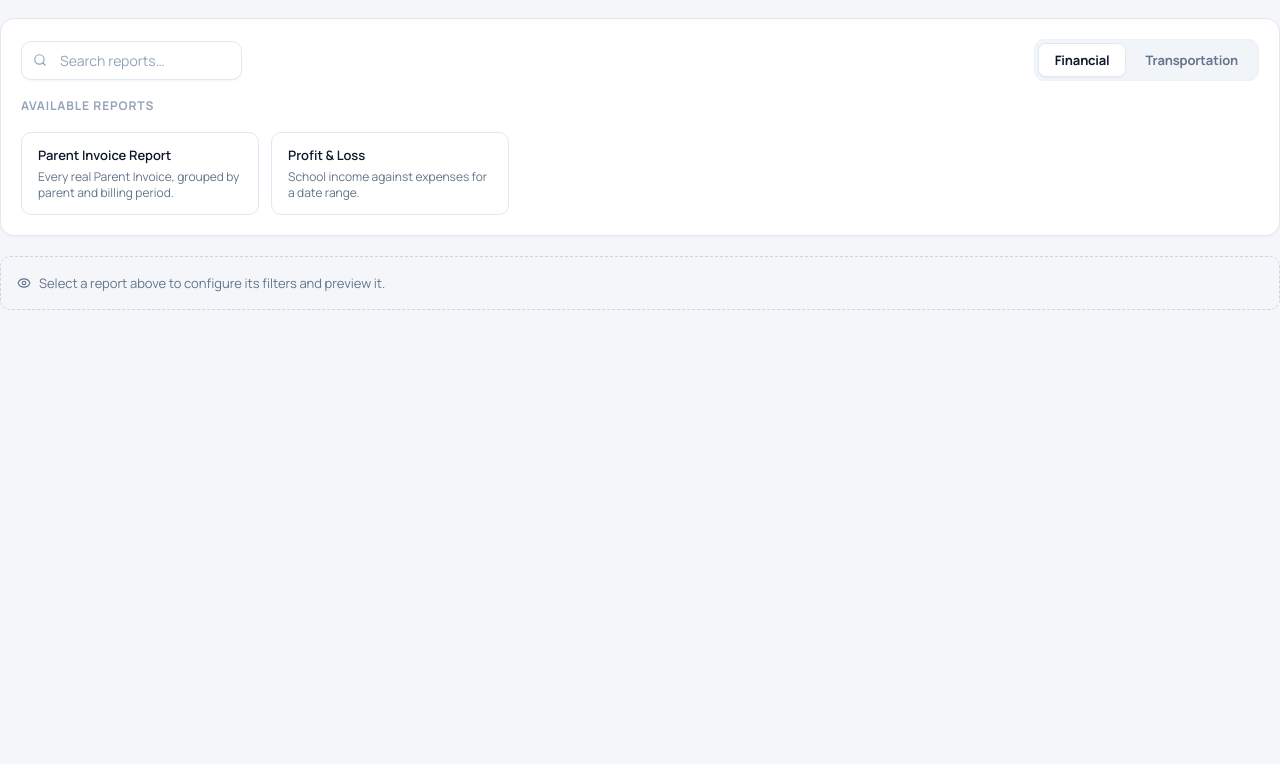
Scenario: ReportsPage — organization Report Center › shows an empty-selection message rather than a blank table
Click the text "Parent Invoice Report" at (105, 155), box [38, 145, 171, 165]
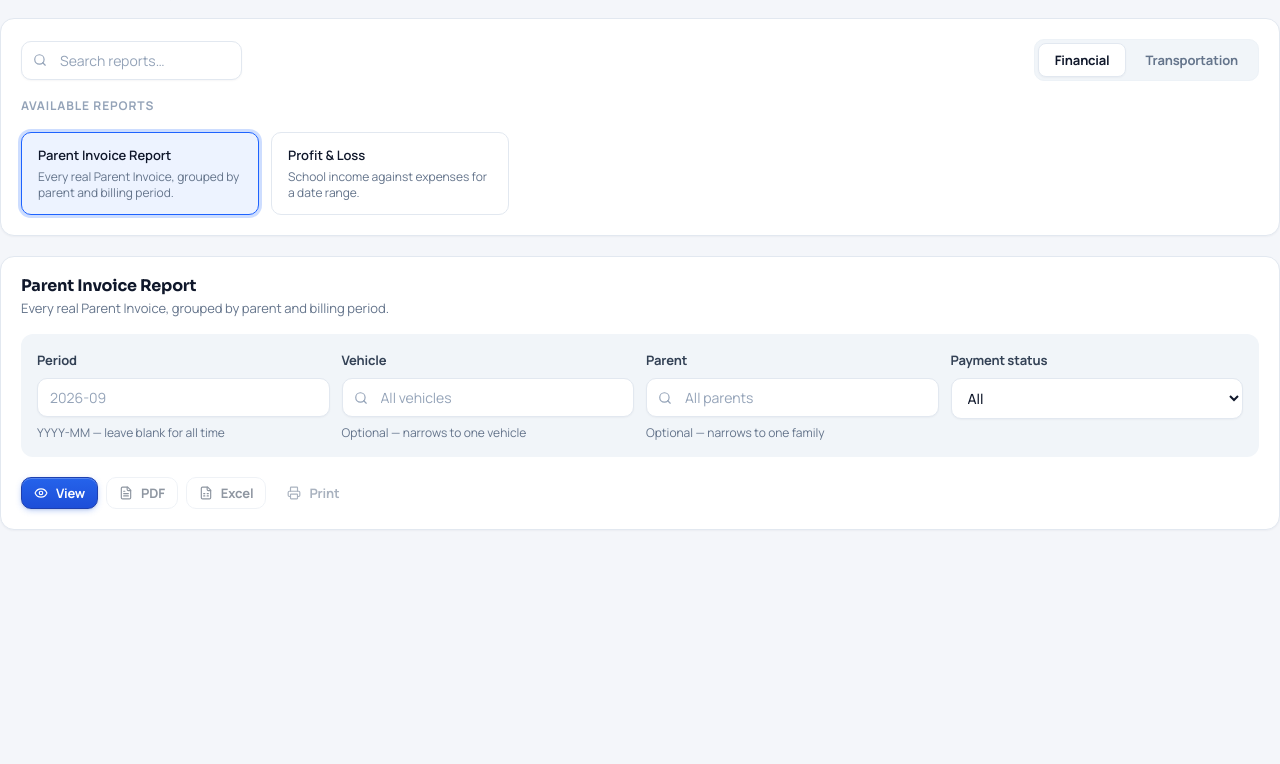
Click the button "View" at (60, 494), box [21, 478, 98, 510]
(page scrolled)
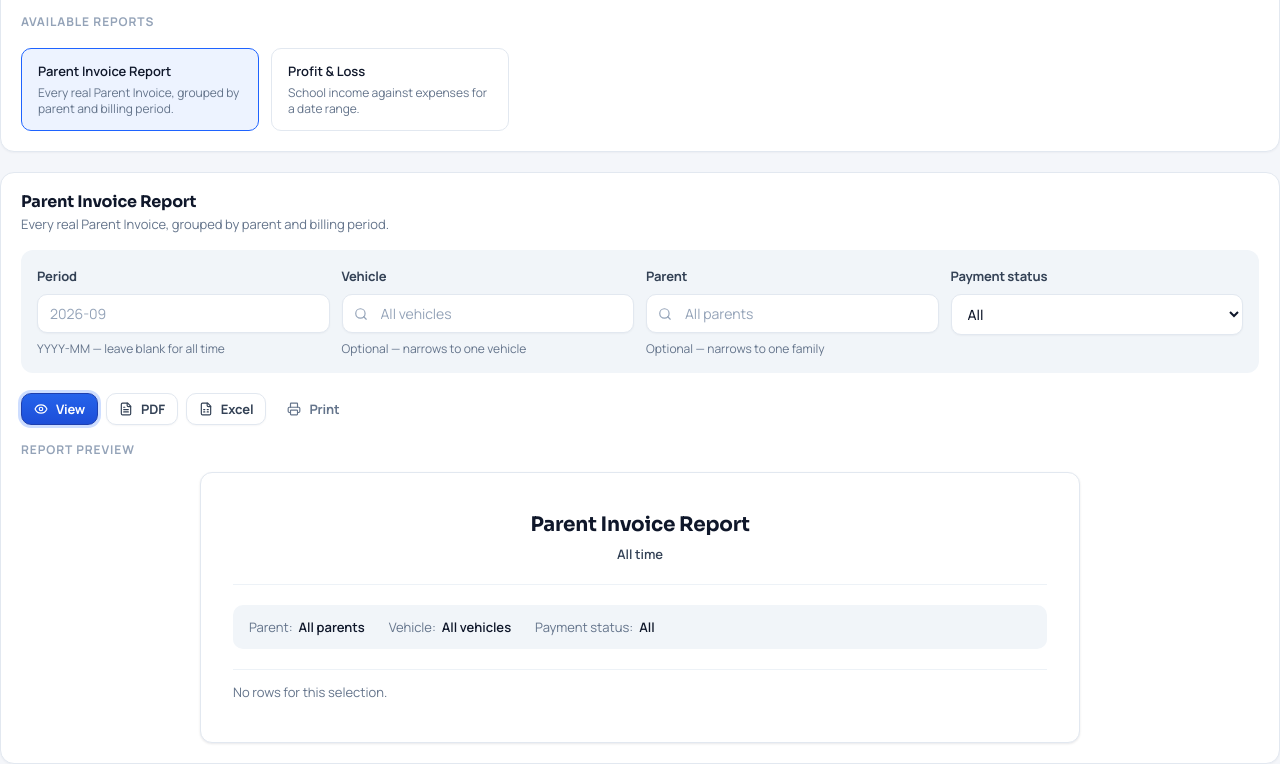
Expected: the text "No rows for this selection." is shown, [233, 683, 387, 701]
